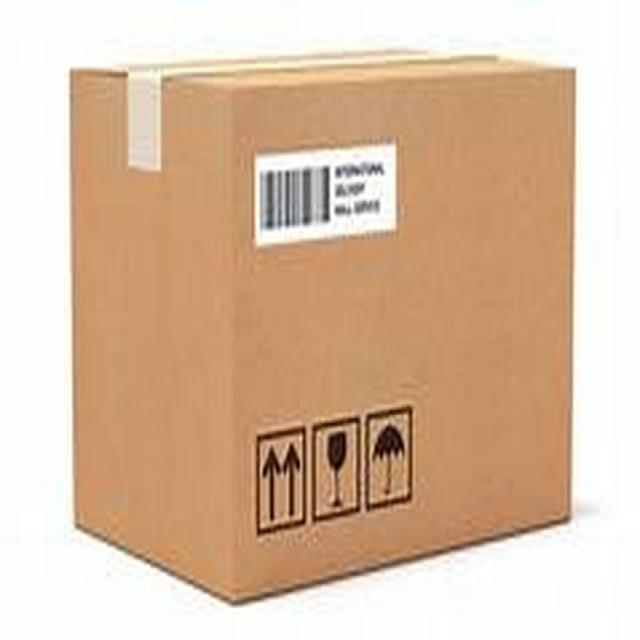box: (39, 49, 598, 584)
